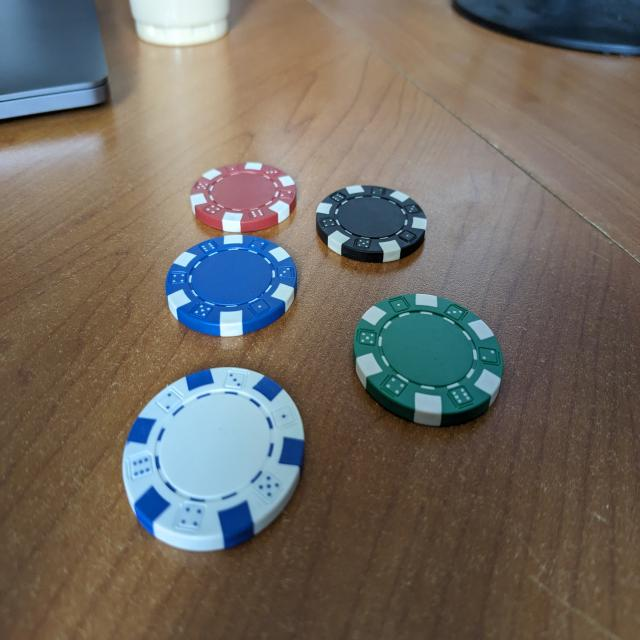black chip: (315, 185, 428, 266)
blue chip: (165, 238, 299, 339)
green chip: (352, 294, 504, 429)
red chip: (190, 162, 297, 238)
white chip: (120, 367, 306, 555)
